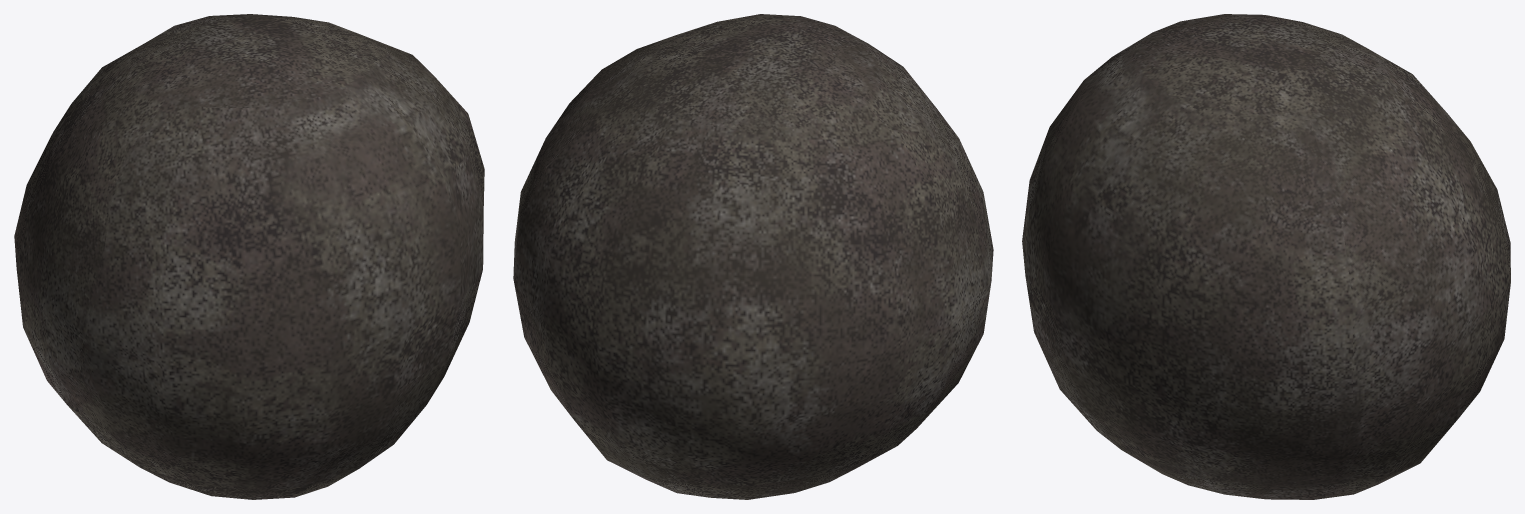
The model's file is SM_Bullet01b.fbx.
The picture shows the model from 3 angles, left to right: view 1: azimuth 30°, elevation 25°; view 2: azimuth 150°, elevation 25°; view 3: azimuth 270°, elevation 25°; orthographic projection. The views are drawn at different scales.
Parts seen in each view (by area): view 1: SM_Bullet01b; view 2: SM_Bullet01b; view 3: SM_Bullet01b.
Part boxes in pixels (bbox=[...]): SM_Bullet01b: bbox=[14, 14, 484, 499]; SM_Bullet01b: bbox=[513, 14, 993, 499]; SM_Bullet01b: bbox=[1022, 14, 1510, 499].
Size of the model in its own units: 30.61 by 31.04 by 30.85.
1 material, 1 textured.
